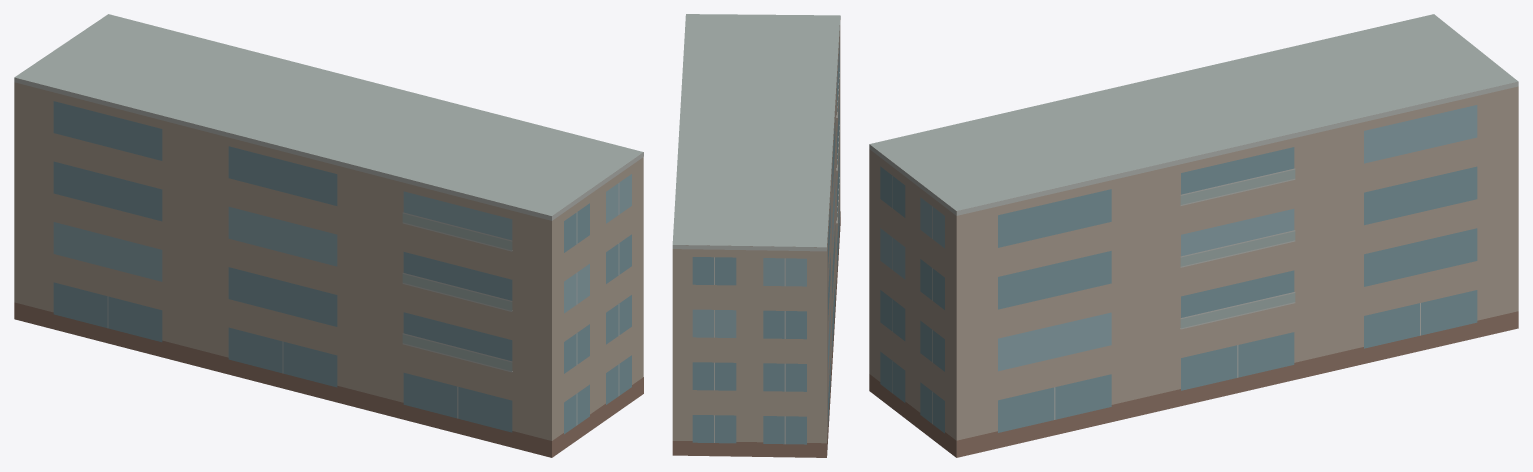
File: survey-upis-32612776.glb
3 renders of one model, left to right at view 1: azimuth 30°, elevation 25°; view 2: azimuth 150°, elevation 25°; view 3: azimuth 270°, elevation 25°, orthographic. The views are drawn at different scales.
Visible parts, largest first — view 1: survey-upis-32612776.tmp; view 2: survey-upis-32612776.tmp; view 3: survey-upis-32612776.tmp.
Boxes of the visible parts, bbox=[...] form: survey-upis-32612776.tmp: bbox=[14, 14, 643, 457]; survey-upis-32612776.tmp: bbox=[672, 14, 840, 457]; survey-upis-32612776.tmp: bbox=[869, 14, 1518, 457].
Size of the model in its own units: 21.34 by 12.45 by 29.7.
